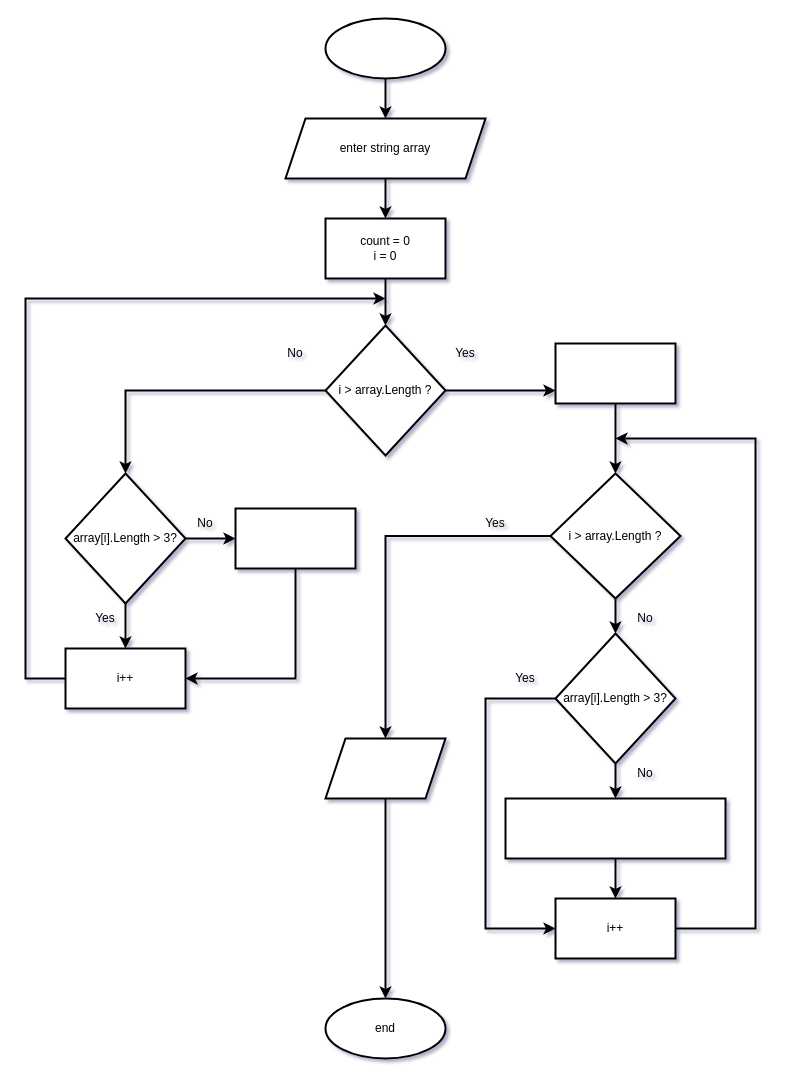
The diagram is 787 pixels wide and 1082 high, and some of its shapes have lost their labels. Here are the shapes that lost their labels. From the top down, the centre of each, then its label:
At point 385,48: "start".
At point 615,373: "string[] result = new string[count] i = 0".
At point 295,538: "count++".
At point 385,768: "Вывод result".
At point 615,828: "result [result.Length - count ] = array[i] count--".
